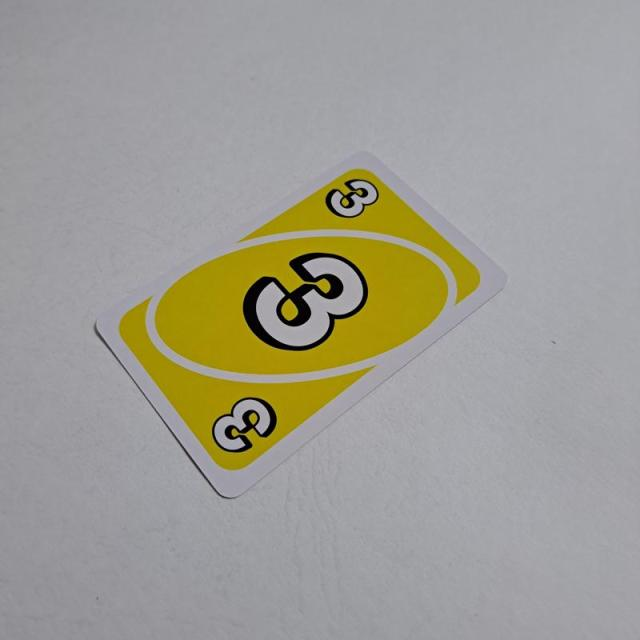Number_3: (321, 170, 388, 222)
Yellow_Card: (115, 159, 488, 475)
